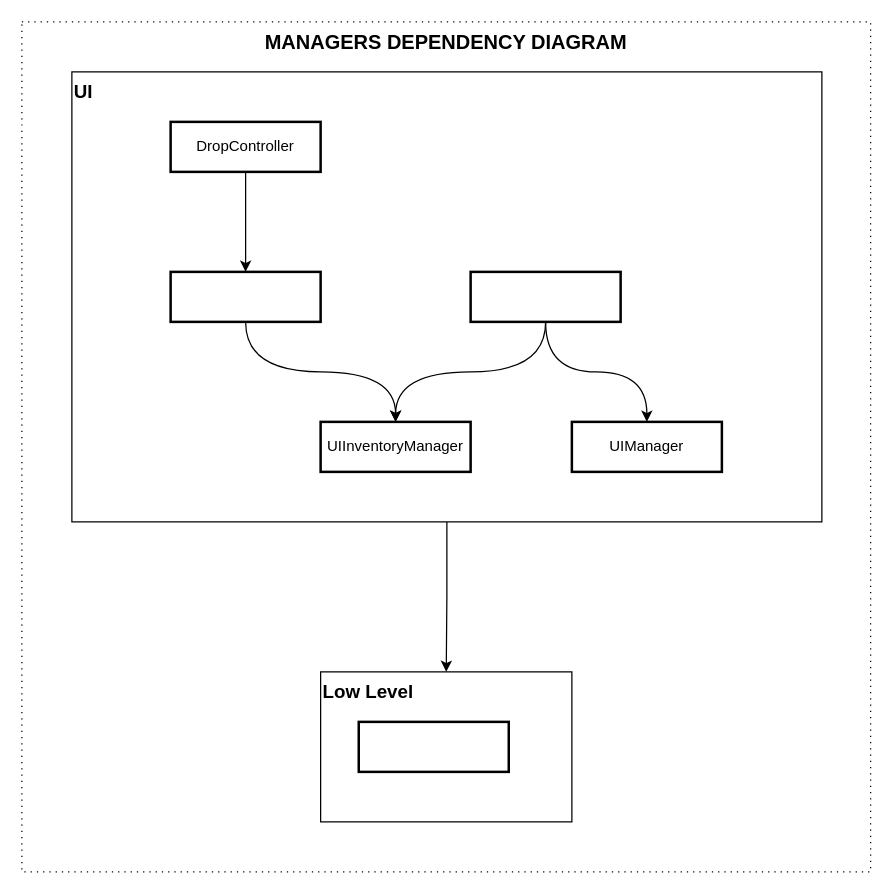
Some shapes in this 893 by 894 pixel diagram are drawn without their labels. Each missing label, with the centre of its shape:
InventoryManager: pixel 433 746
UIInventoryInteractor: pixel 245 296
UIInventorySearcher: pixel 545 296
